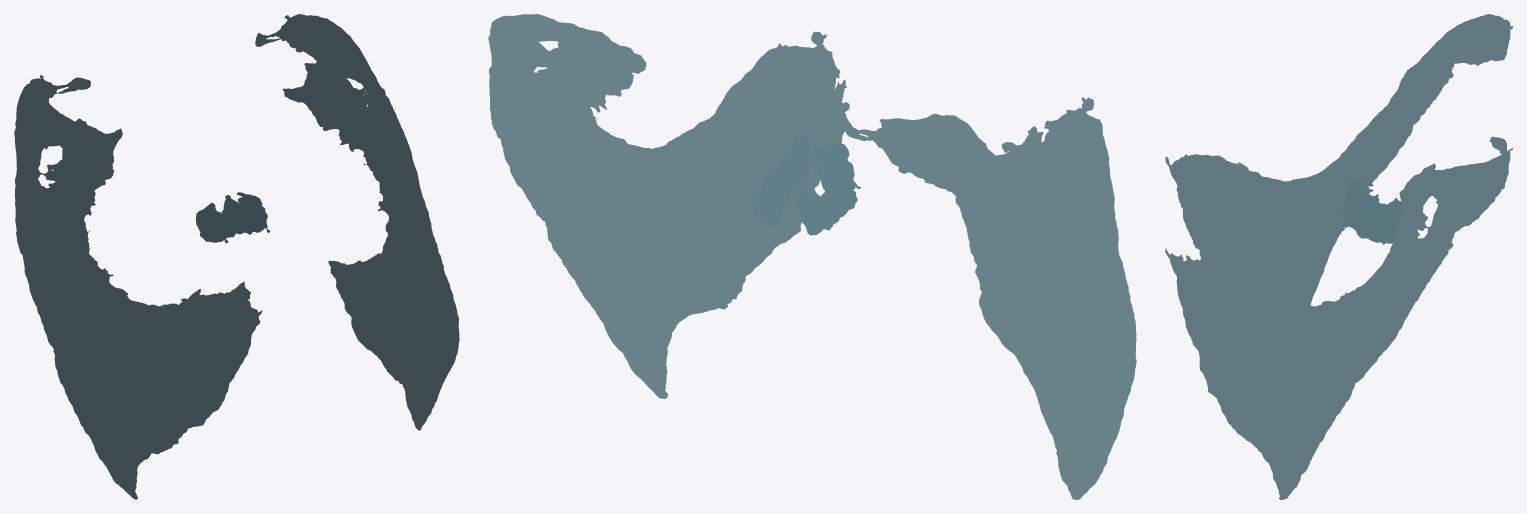
File: organs-nextbrain.glb
3 views of the same model, side by side, from view 1: azimuth 30°, elevation 25°; view 2: azimuth 150°, elevation 25°; view 3: azimuth 270°, elevation 25° (orthographic). The views are drawn at different scales.
Parts seen in each view (by area): view 1: organs-nextbrain; view 2: organs-nextbrain; view 3: organs-nextbrain.
Boxes of the visible parts, x1,y1,x2,y2 form: organs-nextbrain: (14, 14, 459, 499); organs-nextbrain: (488, 14, 1136, 499); organs-nextbrain: (1165, 14, 1512, 499).
Size of the model in its own units: 90.83 by 74.77 by 68.78.
